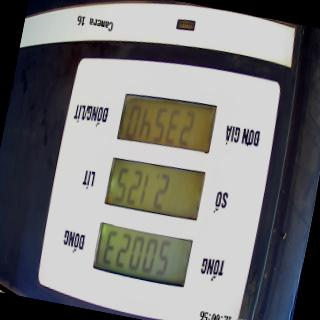screen: (88, 81, 222, 294)
